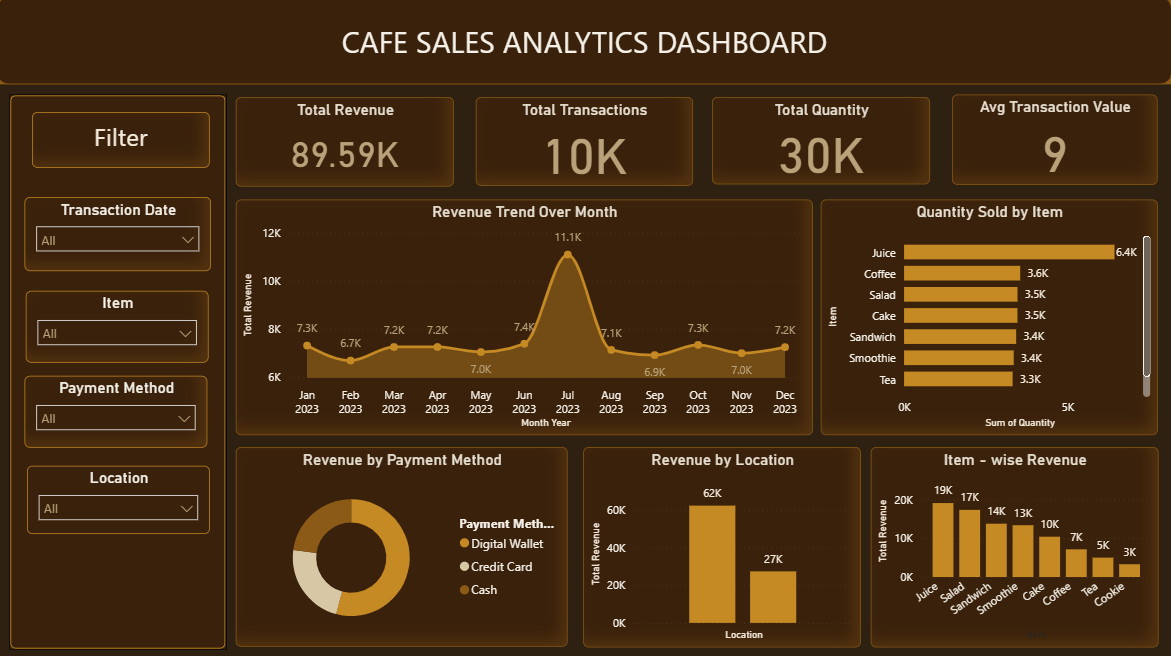

Layout of this report page (visuals, bound fields, positions):
{"tool":"powerbi","page":{"name":"Dashboard","canvas":[1280,720],"ordinal":0},"visuals":[{"type":"card","title":"Total Revenue","fields":{"Values":["dirty_cafe_sales_Cleaned.Total Revenue"]},"box":[259.9,108.6,237.9,97.6],"z":0},{"type":"shape","box":[0,0,1280.3,95.3],"z":1000},{"type":"card","title":"Total Transactions","fields":{"Values":["dirty_cafe_sales_Cleaned.Total Transactions"]},"box":[521.2,109.2,236.4,96.8],"z":3000},{"type":"card","title":"Total Quantity","fields":{"Values":["Sum(dirty_cafe_sales_Cleaned.Quantity)"]},"box":[778.4,109.2,237.8,95.4],"z":4000},{"type":"shape","box":[13.8,105.9,236.5,605.1],"z":5000},{"type":"card","title":"Avg Transaction Value","fields":{"Values":["dirty_cafe_sales_Cleaned.Avg Transaction Value"]},"box":[1041.1,106.5,224,98.2],"z":6000},{"type":"slicer","title":"Transaction Date","fields":{"Values":["dirty_cafe_sales_Cleaned.TransactionDate","dirty_cafe_sales_Cleaned.Item"]},"box":[30.3,217.3,203.5,81.1],"z":7000},{"type":"slicer","title":"Item","fields":{"Values":["dirty_cafe_sales_Cleaned.Item"]},"box":[31.6,320.4,199.4,78.4],"z":8000},{"type":"slicer","title":"Location ","fields":{"Values":["dirty_cafe_sales_Cleaned.Location"]},"box":[33,510.2,199.4,74.3],"z":9000},{"type":"slicer","title":"Payment Method","fields":{"Values":["dirty_cafe_sales_Cleaned.Payment Method"]},"box":[30.3,412.5,199.4,78.4],"z":10000},{"type":"areaChart","title":"Revenue Trend Over Month","fields":{"Category":["DateTable.Month Year"],"Y":["dirty_cafe_sales_Cleaned.Total Revenue"]},"box":[259.9,220,628.5,257.2],"z":11000},{"type":"clusteredBarChart","title":"Quantity Sold by Item","fields":{"Category":["dirty_cafe_sales_Cleaned.Item"],"Y":["Sum(dirty_cafe_sales_Cleaned.Quantity)"]},"box":[898,220,367.2,257.2],"z":12000},{"type":"donutChart","title":"Revenue by Payment Method","fields":{"Category":["dirty_cafe_sales_Cleaned.Payment Method"],"Y":["dirty_cafe_sales_Cleaned.Total Revenue"]},"box":[259.9,490.9,361.7,217.3],"z":13000},{"type":"clusteredColumnChart","title":"Revenue by Location","fields":{"Category":["dirty_cafe_sales_Cleaned.Location"],"Y":["dirty_cafe_sales_Cleaned.Total Revenue"]},"box":[639.5,490.9,302.5,218.7],"z":14000},{"type":"clusteredColumnChart","title":"Item - wise Revenue ","fields":{"Category":["dirty_cafe_sales_Cleaned.Item"],"Y":["dirty_cafe_sales_Cleaned.Total Revenue"]},"box":[951.6,490.9,313.5,218.7],"z":15000},{"type":"textbox","box":[38.5,125.1,193.9,60.5],"z":16000}]}

Visuals, with their boxes in screenshot pixels (x1, y1, x2, y2), scaled from the page's 1280x720 canvas onto the 1171x656 screenshot:
"Total Revenue" card: x1=238, y1=99, x2=455, y2=188
shape: x1=0, y1=0, x2=1170, y2=87
"Total Transactions" card: x1=477, y1=99, x2=693, y2=188
"Total Quantity" card: x1=712, y1=99, x2=930, y2=186
shape: x1=13, y1=96, x2=229, y2=648
"Avg Transaction Value" card: x1=952, y1=97, x2=1157, y2=187
"Transaction Date" slicer: x1=28, y1=198, x2=214, y2=272
"Item" slicer: x1=29, y1=292, x2=211, y2=363
"Location " slicer: x1=30, y1=465, x2=213, y2=533
"Payment Method" slicer: x1=28, y1=376, x2=210, y2=447
"Revenue Trend Over Month" areaChart: x1=238, y1=200, x2=813, y2=435
"Quantity Sold by Item" clusteredBarChart: x1=822, y1=200, x2=1157, y2=435
"Revenue by Payment Method" donutChart: x1=238, y1=447, x2=569, y2=645
"Revenue by Location" clusteredColumnChart: x1=585, y1=447, x2=862, y2=647
"Item - wise Revenue " clusteredColumnChart: x1=871, y1=447, x2=1157, y2=647
textbox: x1=35, y1=114, x2=213, y2=169
